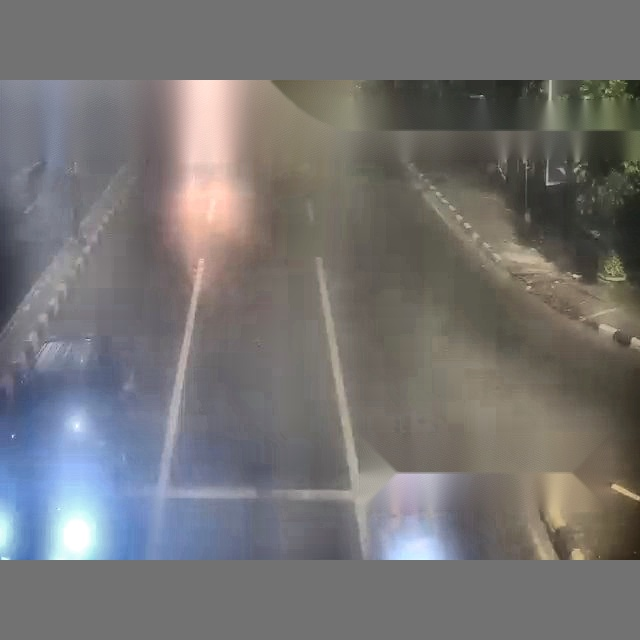Truk: (189, 71, 640, 557)
